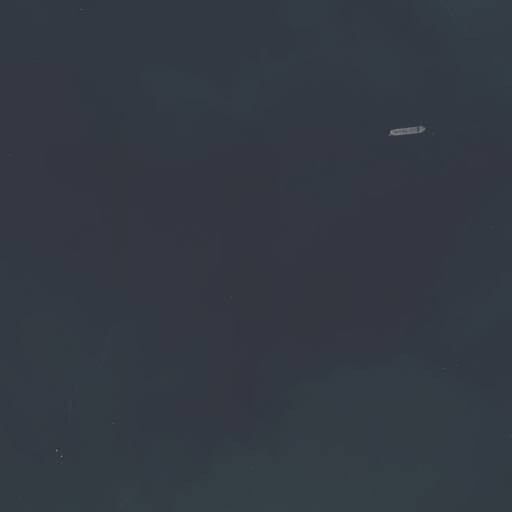ship: (387, 122, 427, 139)
